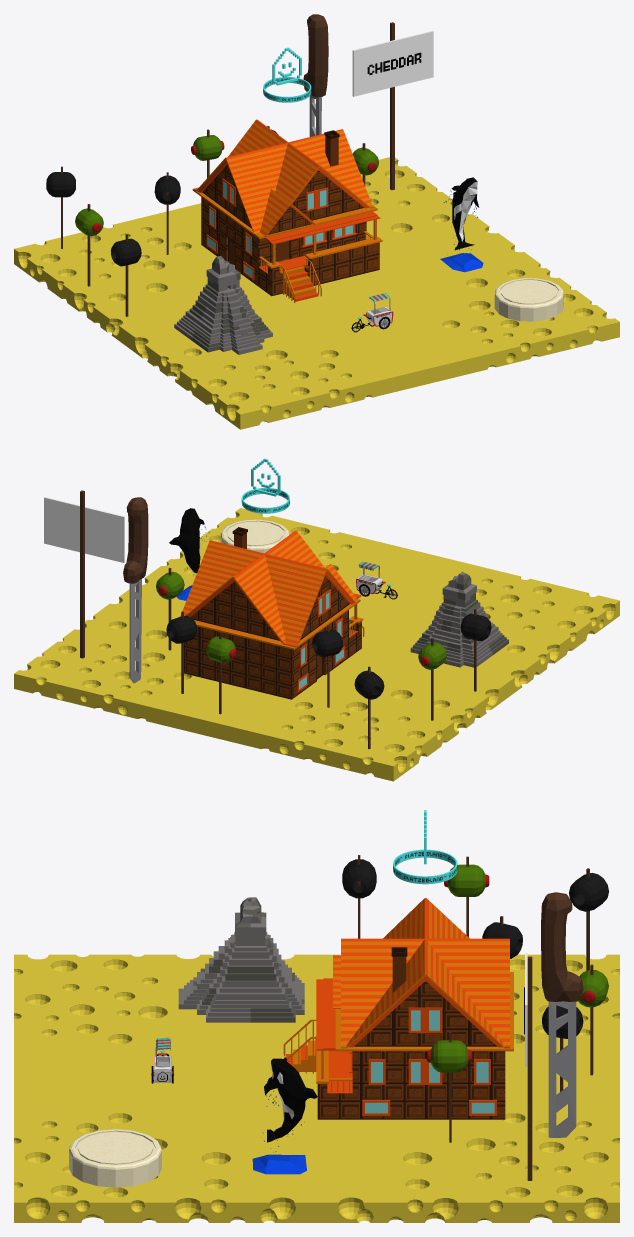
3 views of the same model, one above another, from view 1: azimuth 30°, elevation 25°; view 2: azimuth 150°, elevation 25°; view 3: azimuth 270°, elevation 25° (orthographic). The views are drawn at different scales.
Parts seen in each view (by area): view 1: Cube.022, Cube, OBJRANDOM_GRAN_JAGUAR, Cube.023, Cylinder.016, Cube.024, ANIMAL_ORCA, TYPE_PREMIUM, Sphere.017, Sphere.018, Sphere.016, Sphere.020 (+3 smaller); view 2: Cube.022, Cube, Cube.023, OBJRANDOM_GRAN_JAGUAR, Cube.024, Cylinder.016, ANIMAL_ORCA, TYPE_PREMIUM, Sphere.021, Sphere.017, Sphere.020, Sphere.022 (+4 smaller); view 3: Cube.022, Cube, OBJRANDOM_GRAN_JAGUAR, Cube.024, Cylinder.016, ANIMAL_ORCA, Cube.023, Sphere.019, Sphere.016, TYPE_PREMIUM, Sphere.017, Sphere.018 (+4 smaller).
Part boxes in pixels (box(x1,y1,x2,y2)): Cube.022: box(14, 157, 619, 429); Cube: box(192, 119, 382, 302); OBJRANDOM_GRAN_JAGUAR: box(174, 256, 272, 354); Cube.023: box(352, 22, 433, 190); Cylinder.016: box(494, 278, 563, 321); Cube.024: box(303, 14, 328, 136); ANIMAL_ORCA: box(440, 177, 483, 272); TYPE_PREMIUM: box(263, 47, 311, 102); Sphere.017: box(111, 234, 141, 316); Sphere.018: box(75, 204, 103, 286); Sphere.016: box(46, 166, 75, 248); Sphere.020: box(154, 172, 180, 254); Cube.022: box(14, 508, 619, 781); Cube: box(179, 527, 364, 699); Cube.023: box(44, 490, 124, 658); OBJRANDOM_GRAN_JAGUAR: box(410, 571, 508, 667); Cube.024: box(123, 497, 148, 683); Cylinder.016: box(220, 519, 289, 553); ANIMAL_ORCA: box(169, 508, 209, 600); TYPE_PREMIUM: box(241, 458, 289, 513); Sphere.021: box(166, 611, 197, 693); Sphere.017: box(460, 609, 491, 691); Sphere.020: box(312, 625, 342, 707); Sphere.022: box(205, 631, 236, 714); Cube.022: box(14, 954, 619, 1222); Cube: box(283, 898, 513, 1119); OBJRANDOM_GRAN_JAGUAR: box(178, 897, 304, 1022); Cube.024: box(541, 892, 583, 1137); Cylinder.016: box(69, 1129, 161, 1187); ANIMAL_ORCA: box(252, 1057, 317, 1174); Cube.023: box(524, 953, 532, 1180); Sphere.019: box(426, 1032, 472, 1142); Sphere.016: box(569, 868, 608, 970); TYPE_PREMIUM: box(393, 810, 457, 884); Sphere.017: box(342, 855, 376, 938); Sphere.018: box(444, 856, 489, 937).
Size of the model in its own units: 3917 by 2325 by 4000.
Materials: 32 (5 with a texture image).
